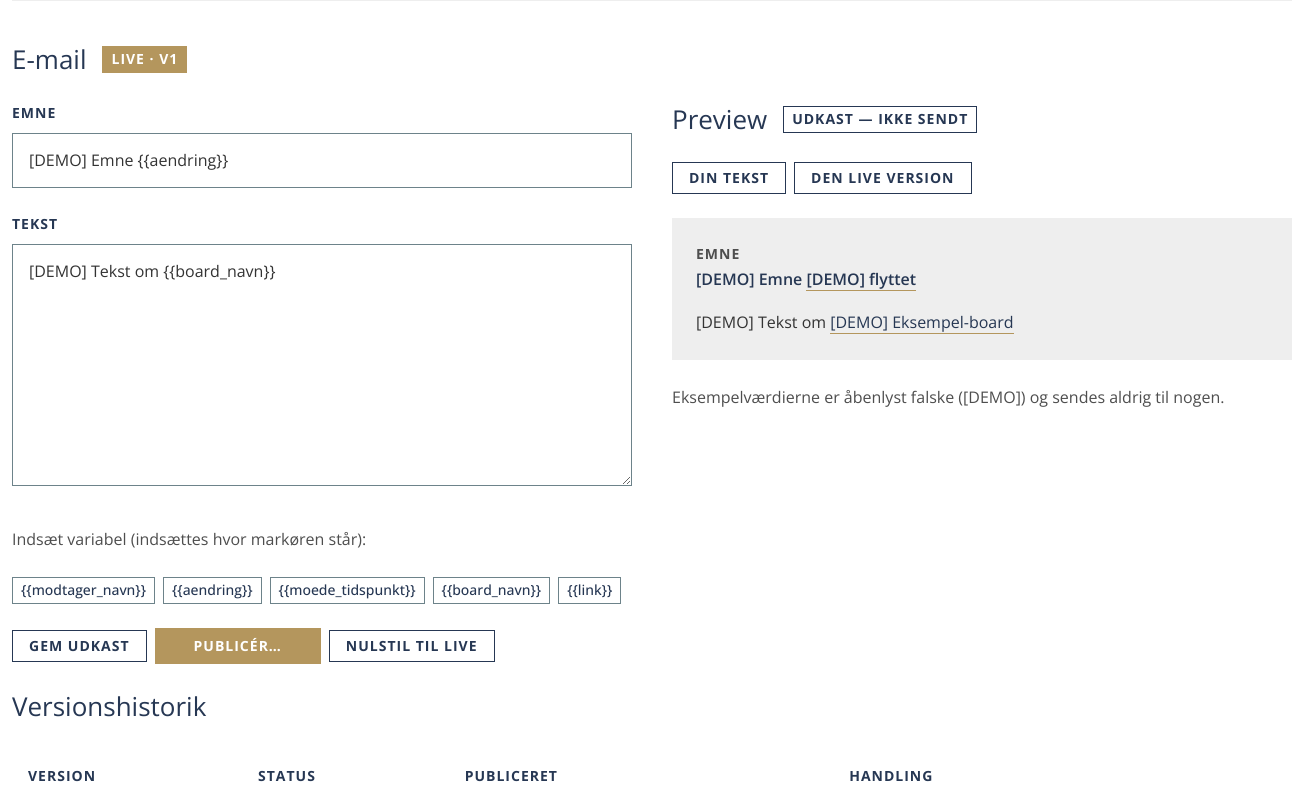
Scenario: TemplateEditor — LIVE vs. udkast (eksplicit krav) › markerer ændringer der ikke er gemt
The image size is (1292, 800).
Expected: the text "ikke er gemt" is not shown
Replace the text in the text box labelled "Tekst" with "[DEMO] Noget andet" at coordinates (322, 365), box left=12, top=244, right=632, bottom=486
(page scrolled)
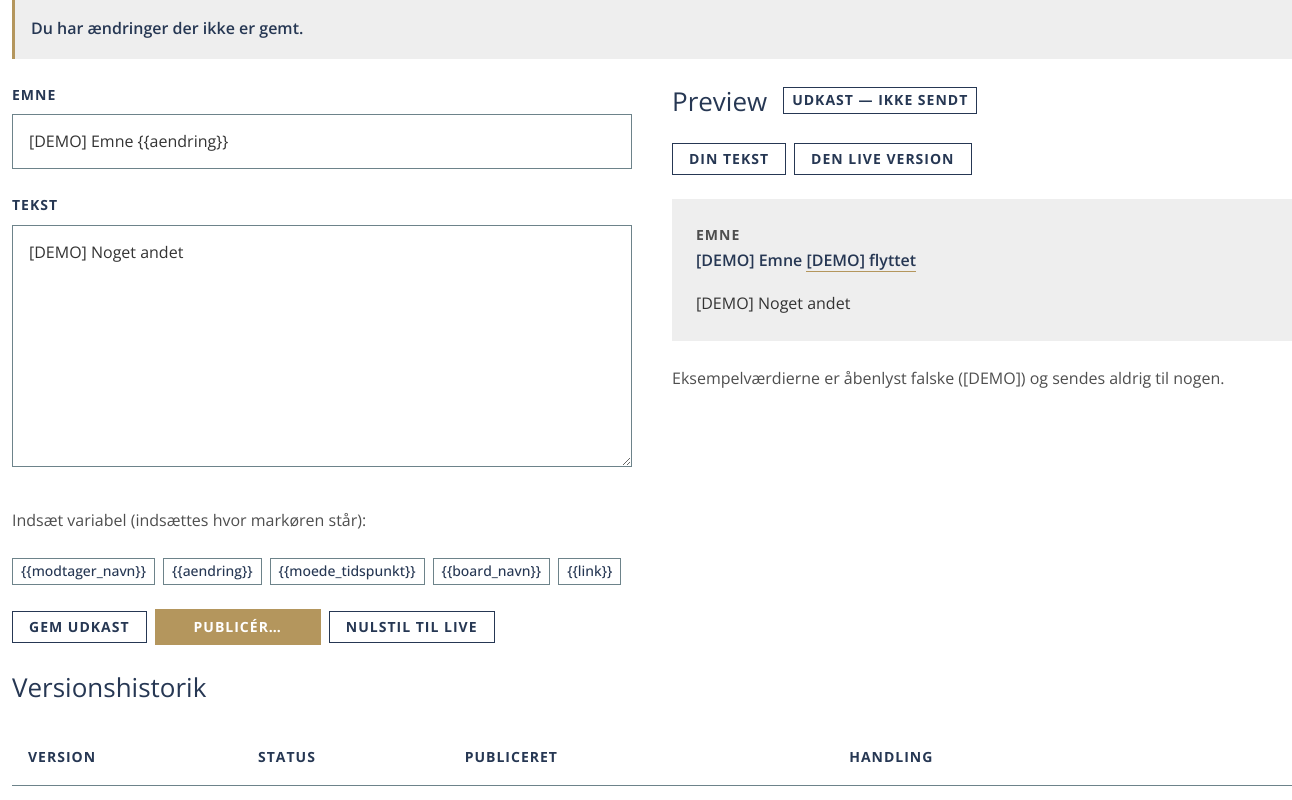
Expected: the element that starts with "E-mail" shows "ændringer der ikke er gemt", left=31, top=17, right=303, bottom=39
